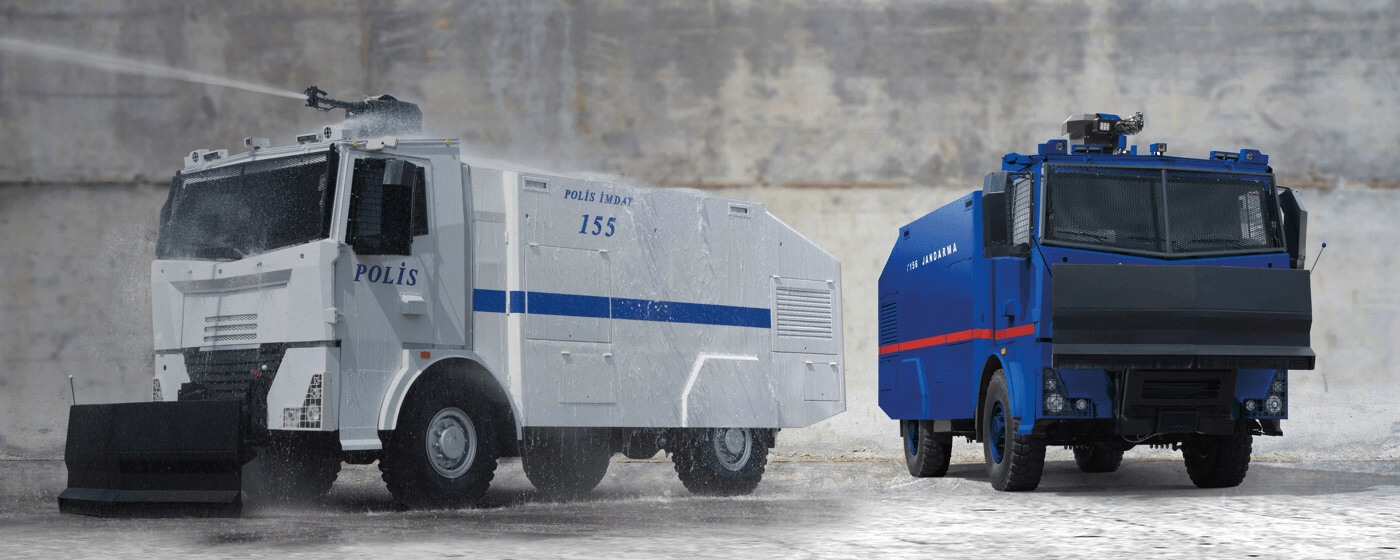special: (58, 99, 841, 522), (876, 114, 1320, 489)
